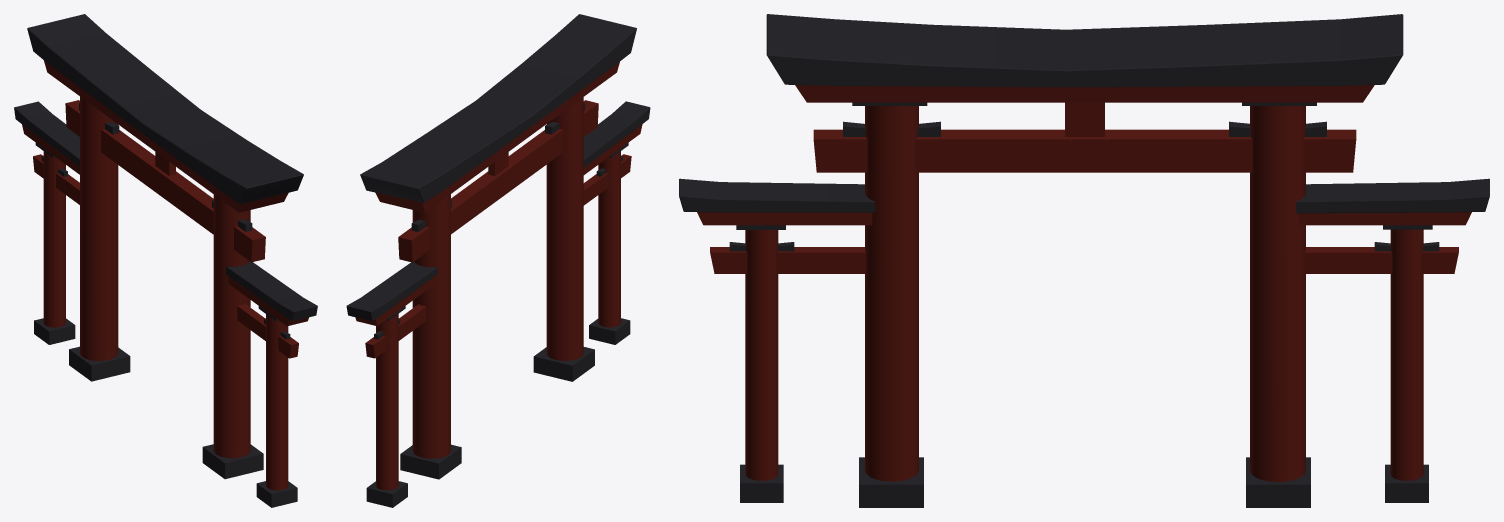
The model's file is arch05.fbx.
3 views of the same model, side by side, from view 1: azimuth 30°, elevation 25°; view 2: azimuth 150°, elevation 25°; view 3: azimuth 270°, elevation 25° (orthographic). The views are drawn at different scales.
Visible parts, largest first — view 1: arch05; view 2: arch05; view 3: arch05.
Part boxes in pixels (box(x1,y1,x2,y2)): arch05: box(14, 14, 317, 507); arch05: box(346, 14, 650, 507); arch05: box(679, 14, 1489, 507).
Bounding box in the file's own units: 204 × 1059 × 1694.
